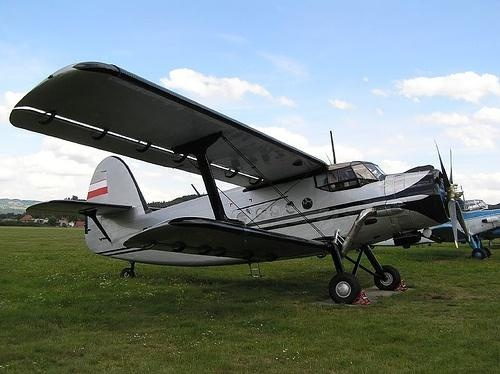aeroplane: (9, 62, 472, 306), (373, 200, 500, 260)
